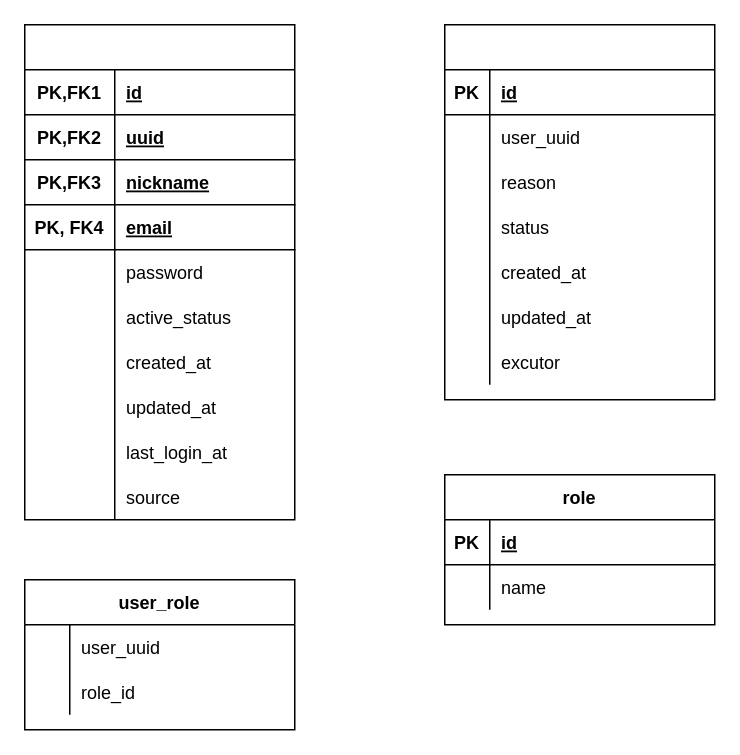
The diagram is 740 pixels wide and 755 high, and some of its shapes have lost their labels. Here are the shapes that lost their labels. From the top down, the box of each, then its label:
(443, 23, 715, 400): request_permission
(23, 23, 295, 520): User
